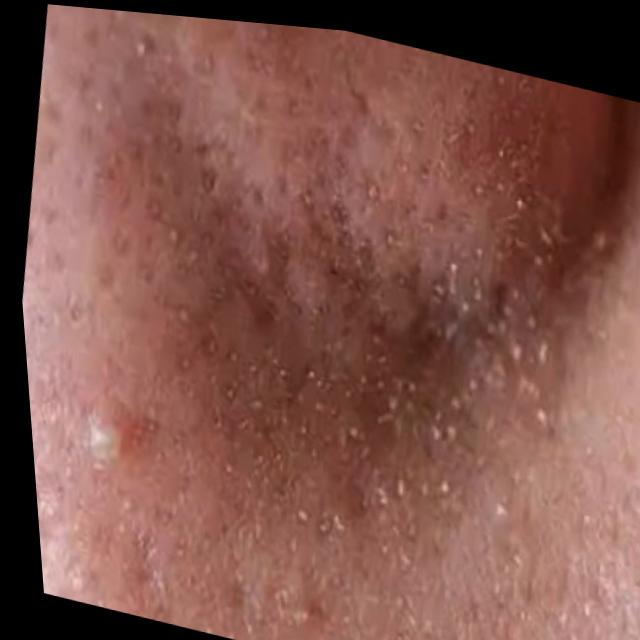whitehead: (272, 56, 625, 587)
